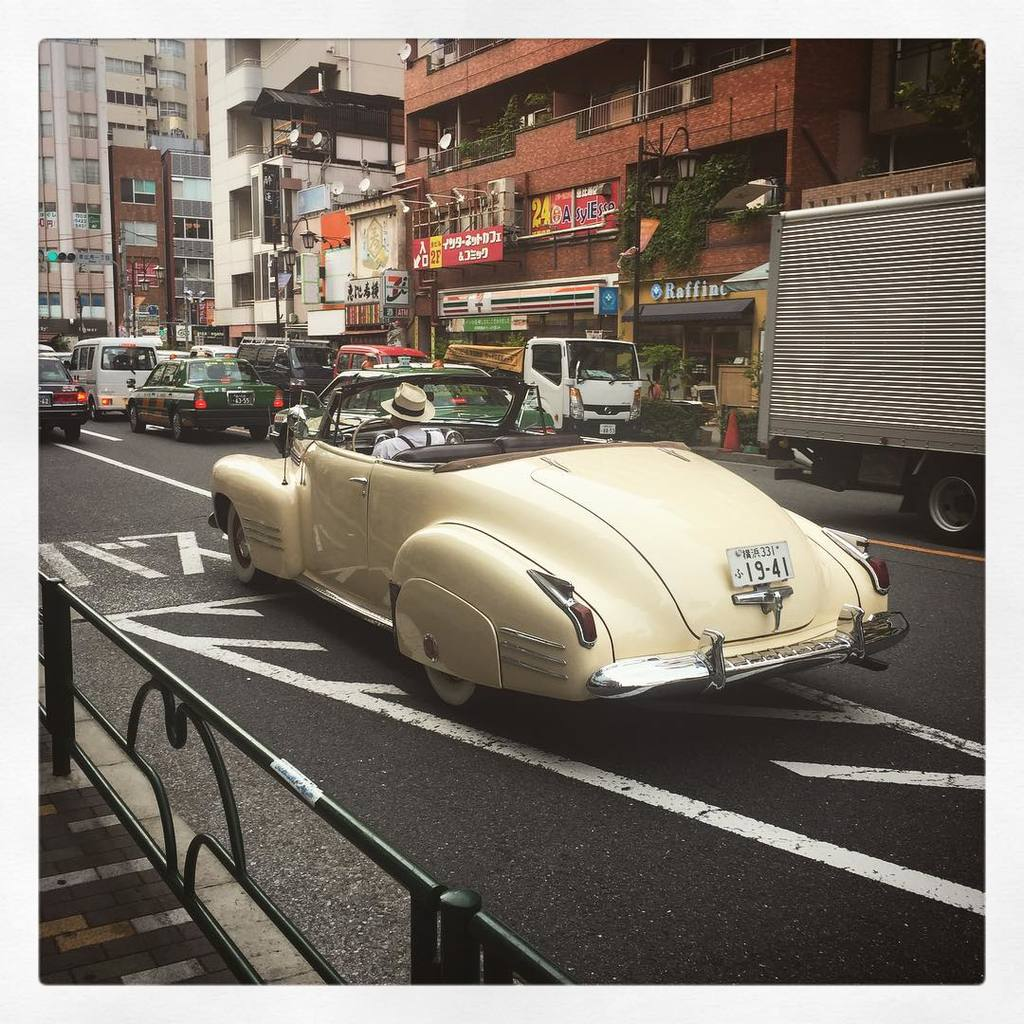Car: (18, 327, 911, 720)
